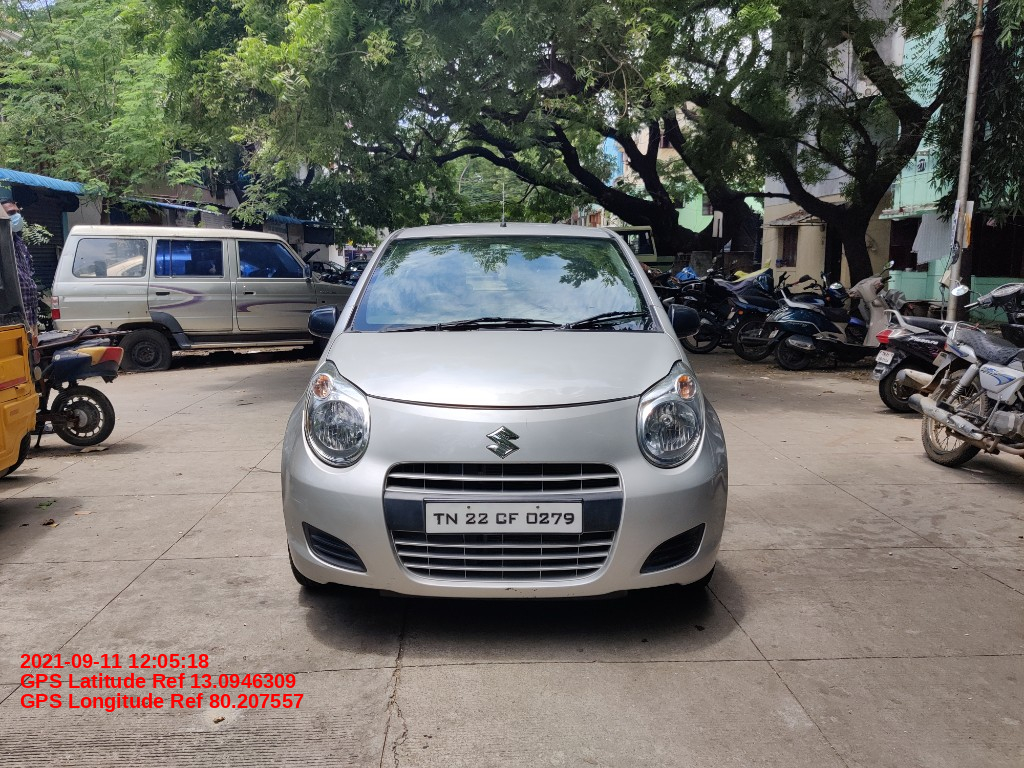Scratched: (365, 571, 399, 589), (504, 586, 544, 599), (349, 535, 363, 551), (522, 416, 531, 430)
